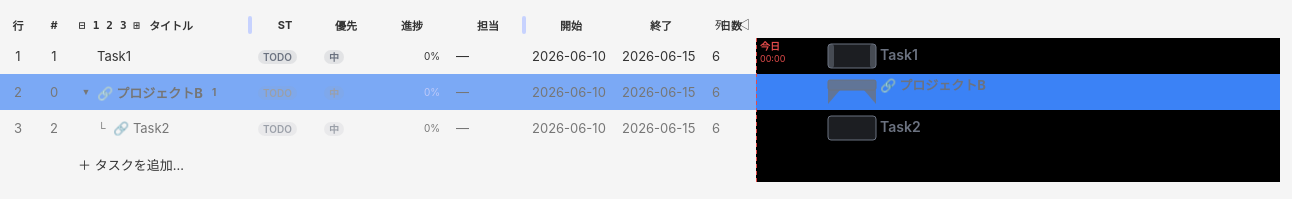
Scenario: クロスプロジェクト参照 — readonly ガード › コンテキストメニュー: 参照タスク行は専用メニュー（参照先プロジェクトを開く/参照を解除/再読み込み）が出る
The width and height of the screenshot is (1292, 199).
Right-click the text "🔗 Task2" at (141, 128), box [113,120,170,136]
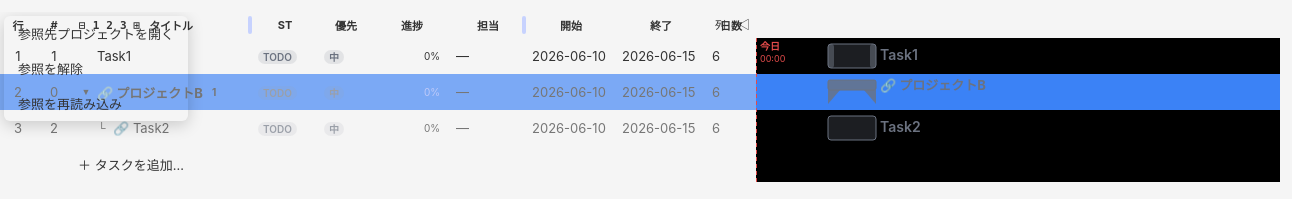
Expected: the button "参照先プロジェクトを開く" is shown, [4,16,188,51]
Expected: the button "参照を解除" is shown, [4,51,188,86]
Expected: the button "参照を再読み込み" is shown, [4,86,188,121]
